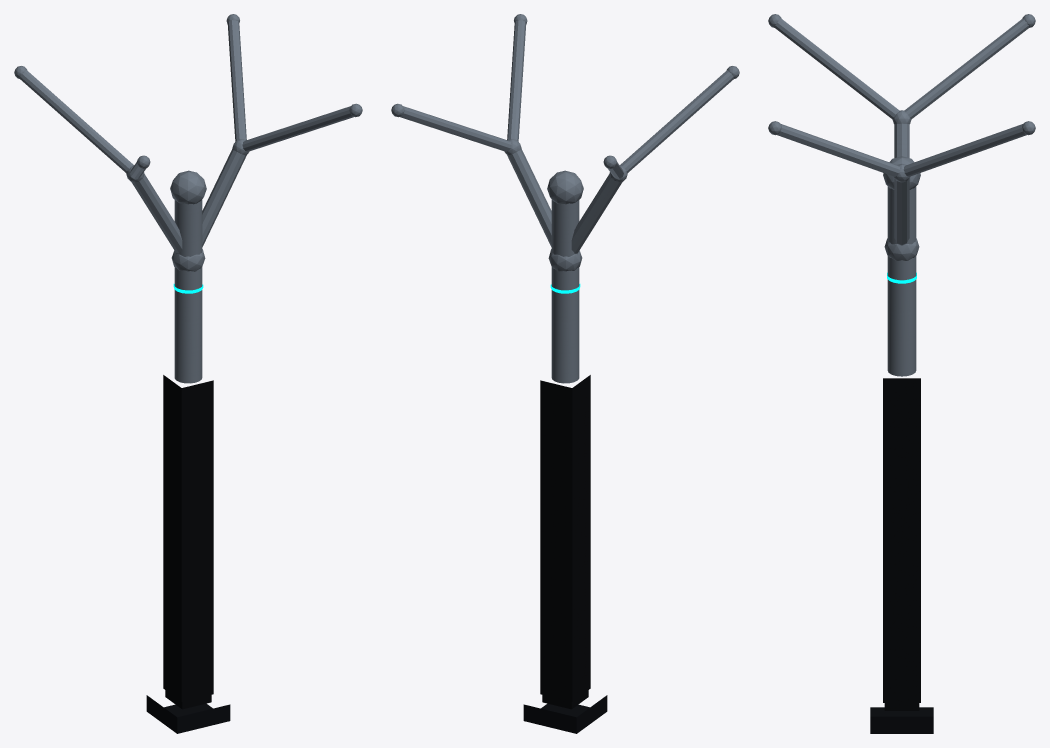
3 views of the same model, side by side, from view 1: azimuth 30°, elevation 25°; view 2: azimuth 150°, elevation 25°; view 3: azimuth 270°, elevation 25° (orthographic). The views are drawn at different scales.
Visible parts, largest first — view 1: Trunk_Clad, Tree_Steel, Pedestal_Concrete; view 2: Trunk_Clad, Tree_Steel, Pedestal_Concrete; view 3: Tree_Steel, Trunk_Clad, Pedestal_Concrete.
Part boxes in pixels (bbox=[...]): Trunk_Clad: bbox=[163, 375, 213, 701]; Tree_Steel: bbox=[14, 14, 362, 383]; Pedestal_Concrete: bbox=[146, 695, 230, 733]; Trunk_Clad: bbox=[540, 375, 590, 701]; Tree_Steel: bbox=[391, 14, 739, 383]; Pedestal_Concrete: bbox=[523, 695, 607, 733]; Tree_Steel: bbox=[768, 14, 1035, 376]; Trunk_Clad: bbox=[883, 378, 920, 702]; Pedestal_Concrete: bbox=[870, 707, 933, 733].
Size of the model in its own units: 8.45 by 22.73 by 8.45.
Materials: 4 (3 with a texture image).
